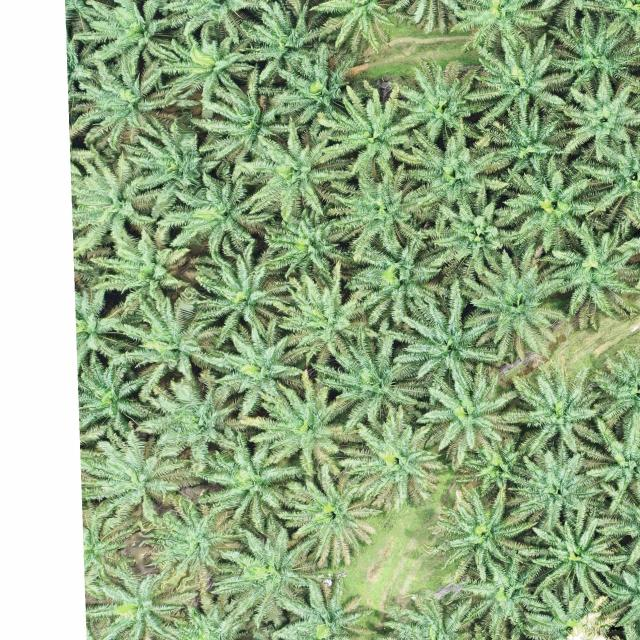Tree: (309, 320, 445, 431), (103, 287, 225, 402), (456, 243, 568, 365), (414, 351, 528, 464), (420, 484, 537, 592), (238, 112, 354, 220), (173, 241, 288, 349), (315, 82, 424, 194), (275, 460, 383, 572), (387, 288, 498, 396), (234, 371, 352, 472), (316, 165, 445, 256), (81, 428, 195, 530), (398, 120, 513, 221), (210, 518, 315, 627), (158, 166, 278, 260), (339, 400, 443, 508), (70, 52, 180, 152), (187, 66, 297, 166), (276, 258, 368, 374), (156, 22, 261, 123), (547, 216, 640, 330), (386, 54, 497, 149), (463, 33, 577, 125), (196, 430, 303, 528), (141, 370, 244, 470), (119, 112, 224, 210), (351, 231, 453, 327), (498, 163, 602, 257), (212, 314, 306, 416), (428, 179, 528, 274), (503, 362, 601, 456), (149, 494, 246, 588), (522, 510, 618, 603), (85, 563, 199, 640), (68, 0, 180, 77), (506, 443, 601, 530), (88, 224, 193, 302), (270, 43, 368, 126), (553, 7, 640, 97), (231, 0, 326, 82), (559, 66, 640, 161), (270, 575, 372, 640), (573, 122, 640, 220), (486, 102, 570, 178), (583, 411, 640, 514), (264, 206, 343, 278), (448, 0, 549, 52), (588, 473, 640, 571), (308, 0, 397, 55), (381, 592, 482, 640), (595, 341, 640, 434), (600, 552, 640, 633), (583, 0, 640, 49)
